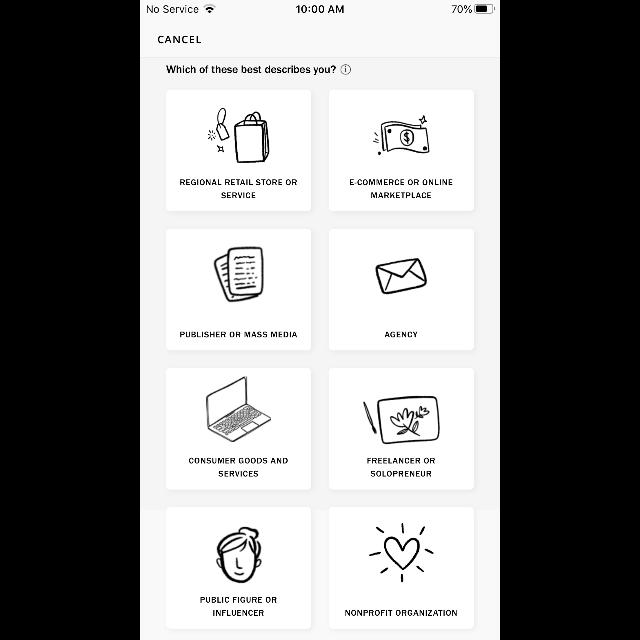icon: (341, 65, 351, 75)
image: (206, 376, 272, 442), (369, 522, 433, 582), (362, 396, 440, 444), (208, 108, 270, 162), (214, 246, 264, 302), (216, 527, 262, 583), (373, 116, 429, 156), (375, 258, 427, 294)
text: (181, 180, 297, 198), (190, 458, 288, 477), (350, 180, 452, 198), (201, 596, 277, 616), (167, 66, 336, 74), (368, 458, 434, 477), (181, 331, 297, 337), (346, 610, 456, 616), (159, 36, 201, 42), (384, 331, 418, 337)
uppertaskbar: (140, 0, 500, 14)
